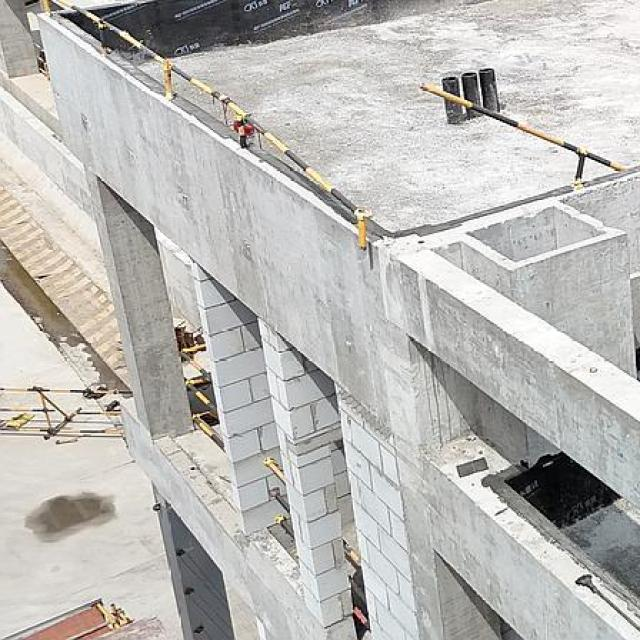edge_guardrail: (44, 0, 369, 253), (421, 82, 624, 187), (177, 341, 226, 450), (343, 540, 370, 631), (265, 460, 295, 540)
